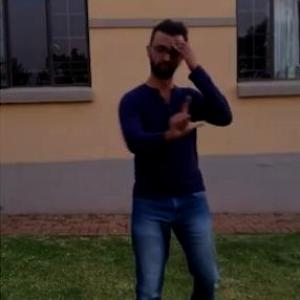land_hand: (164, 91, 206, 143)
